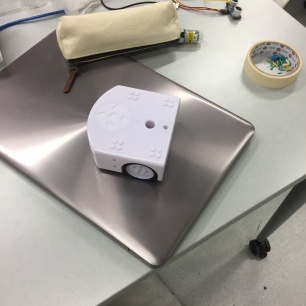thymio: (84, 80, 184, 190)
